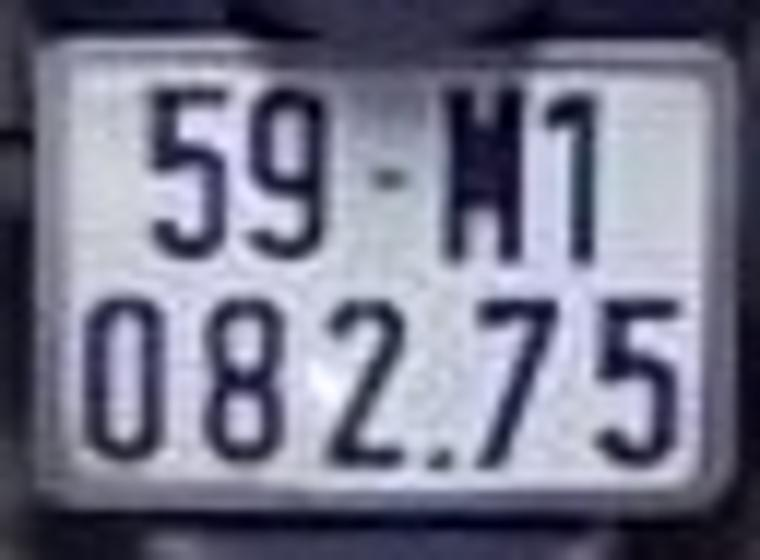-: (368, 165, 413, 193)
.: (421, 442, 454, 474)
0: (78, 289, 170, 461)
1: (542, 84, 605, 267)
2: (317, 299, 414, 474)
5: (139, 80, 233, 260), (593, 290, 686, 468)
7: (477, 296, 564, 472)
8: (199, 297, 284, 465)
9: (244, 88, 334, 263)
M: (441, 82, 534, 268)
